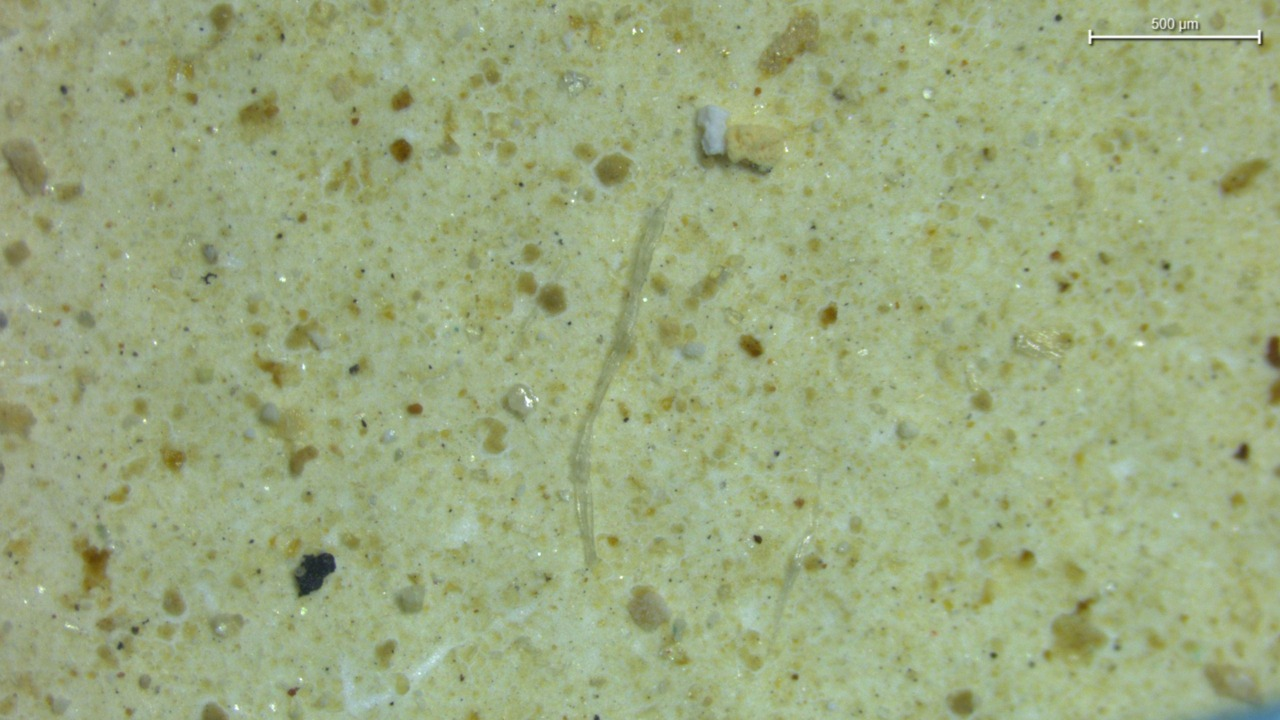microplastic_fragment: (727, 124, 785, 170), (627, 586, 670, 630), (697, 105, 729, 155), (504, 385, 538, 420)
